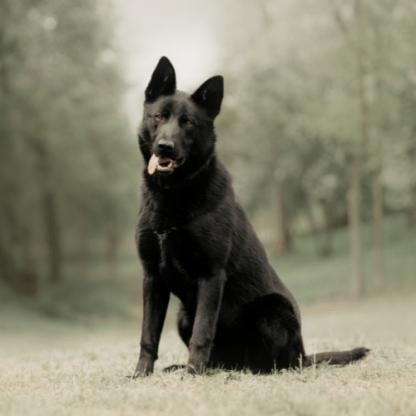dog: (130, 58, 374, 379)
